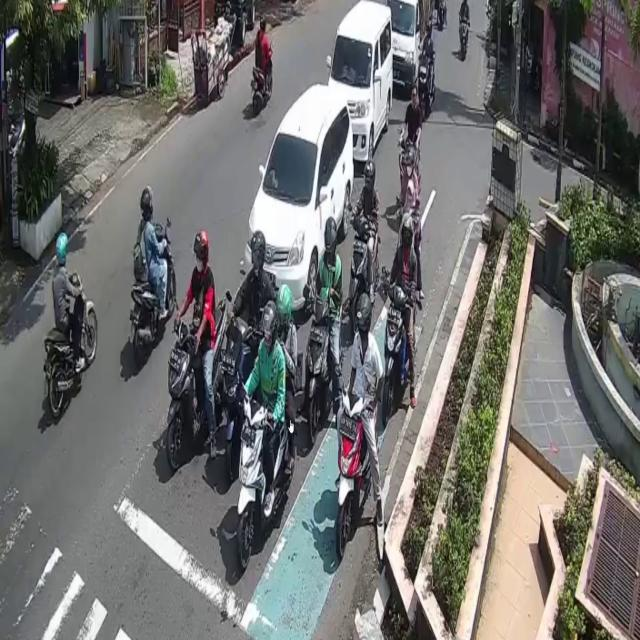bus: (163, 297, 234, 474), (237, 396, 290, 568), (45, 274, 99, 422), (131, 222, 175, 368), (337, 387, 372, 555), (305, 298, 333, 447), (383, 290, 412, 429), (352, 213, 377, 304), (252, 63, 272, 119), (419, 55, 435, 106)
motorcycle: (243, 81, 354, 319), (329, 0, 394, 162), (388, 0, 427, 94)
